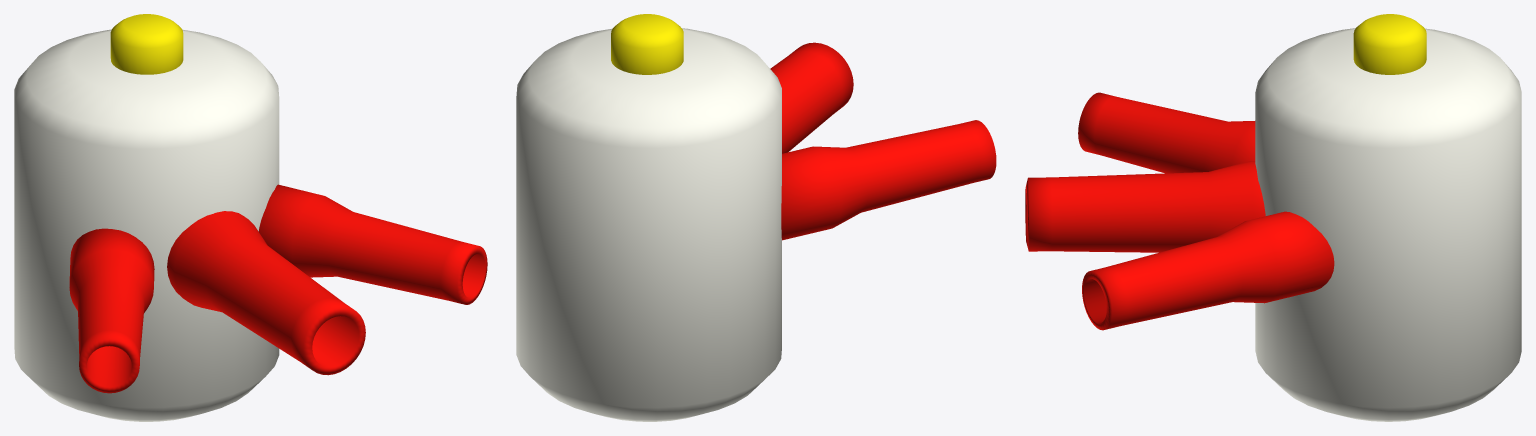
File: Sprinkler.fbx
3 views of the same model, side by side, from view 1: azimuth 30°, elevation 25°; view 2: azimuth 150°, elevation 25°; view 3: azimuth 270°, elevation 25° (orthographic).
Parts seen in each view (by area): view 1: Cylinder, Cylinder.001, Cylinder.002; view 2: Cylinder, Cylinder.001, Cylinder.002; view 3: Cylinder, Cylinder.001, Cylinder.002.
Part boxes in pixels (x1,y1,x2,y2): Cylinder: [14, 29, 279, 421]; Cylinder.001: [69, 184, 487, 393]; Cylinder.002: [110, 14, 183, 74]; Cylinder: [516, 28, 781, 421]; Cylinder.001: [770, 42, 996, 240]; Cylinder.002: [611, 14, 683, 74]; Cylinder: [1255, 28, 1521, 421]; Cylinder.001: [1025, 92, 1334, 330]; Cylinder.002: [1353, 14, 1426, 74].
Size of the model in its own units: 776 by 654 by 811.
